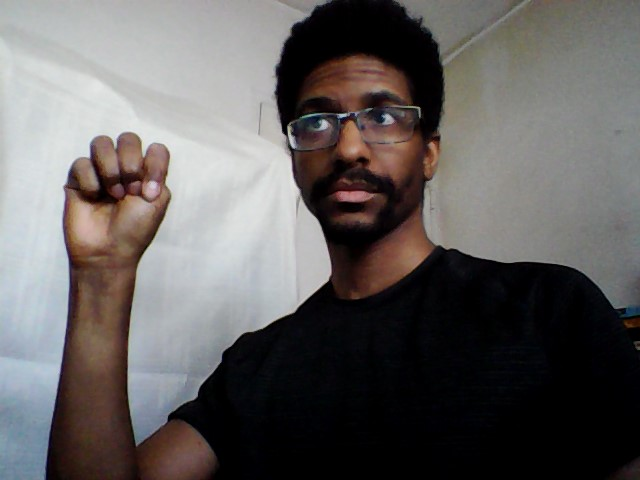m: (56, 130, 177, 264)
